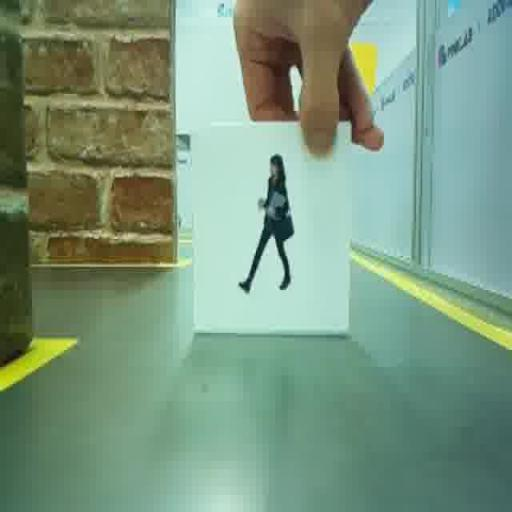human: (238, 155, 294, 292)
